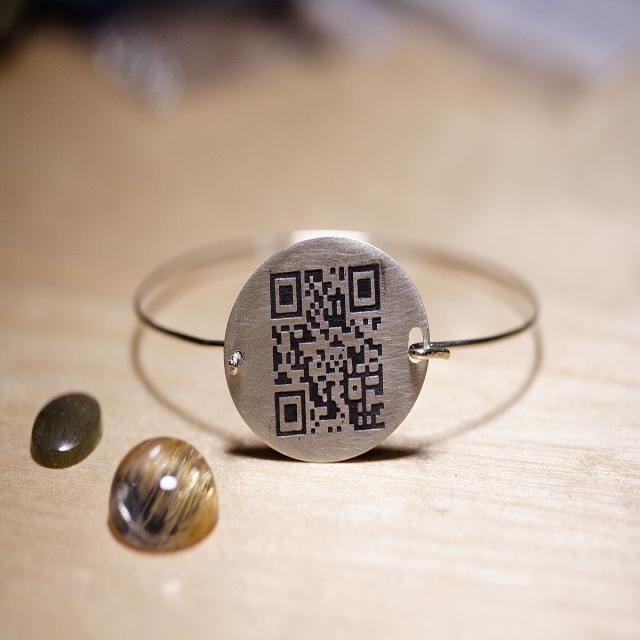qr-code: (270, 265, 384, 436)
